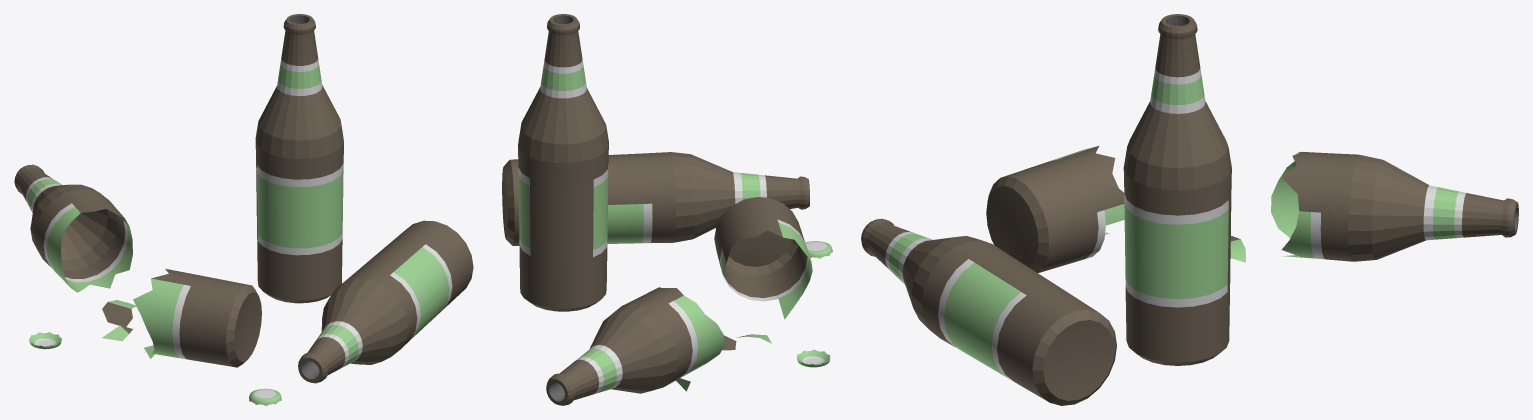
File: butilki.fbx
The picture shows the model from 3 angles, left to right: view 1: azimuth 30°, elevation 25°; view 2: azimuth 150°, elevation 25°; view 3: azimuth 270°, elevation 25°; orthographic projection. The views are drawn at different scales.
Visible parts, largest first — view 1: pCylinder10; view 2: pCylinder10; view 3: pCylinder10.
Part boxes in pixels (left/top/right/bottom): pCylinder10: left=14, top=14, right=473, bottom=405; pCylinder10: left=502, top=14, right=832, bottom=405; pCylinder10: left=861, top=14, right=1518, bottom=405.
Bounding box in the file's own units: 7.9 × 6.34 × 9.79.
